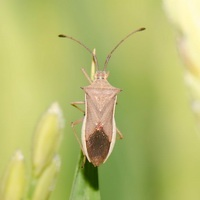insect: (58, 27, 144, 165)
